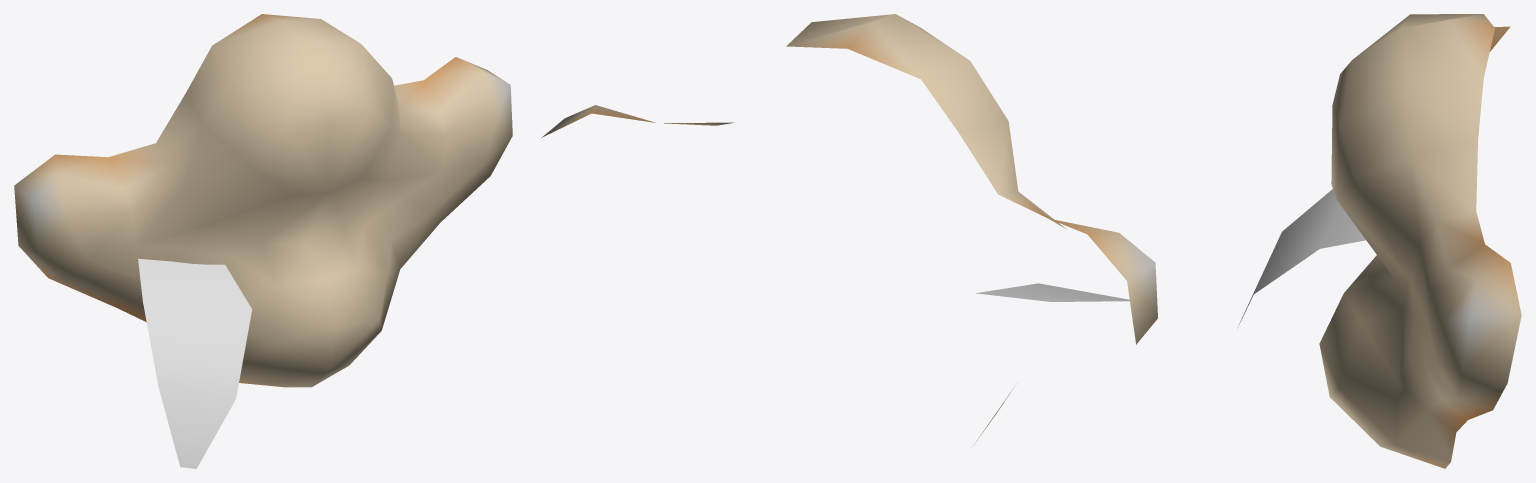
The model's file is S12_Beast04_L2_Mouth.glb.
3 renders of one model, left to right at view 1: azimuth 30°, elevation 25°; view 2: azimuth 150°, elevation 25°; view 3: azimuth 270°, elevation 25°, orthographic. The views are drawn at different scales.
Visible parts, largest first — view 1: S12_Beast04_L2_Mouth__Mouth_M__surface0__lod0; view 2: S12_Beast04_L2_Mouth__Mouth_M__surface0__lod0; view 3: S12_Beast04_L2_Mouth__Mouth_M__surface0__lod0.
Boxes of the visible parts, x1,y1,x2,y2 form: S12_Beast04_L2_Mouth__Mouth_M__surface0__lod0: [14, 14, 512, 468]; S12_Beast04_L2_Mouth__Mouth_M__surface0__lod0: [541, 14, 1157, 446]; S12_Beast04_L2_Mouth__Mouth_M__surface0__lod0: [1238, 14, 1521, 468].
Bounding box in the file's own units: 0.4249 × 0.309 × 0.1818.
